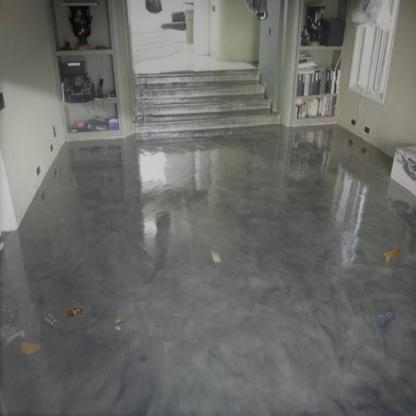dirty: (63, 306, 85, 320), (20, 342, 40, 355), (43, 312, 59, 326), (209, 249, 222, 264), (113, 316, 126, 330)
liquid: (375, 310, 396, 330), (384, 248, 400, 262)
